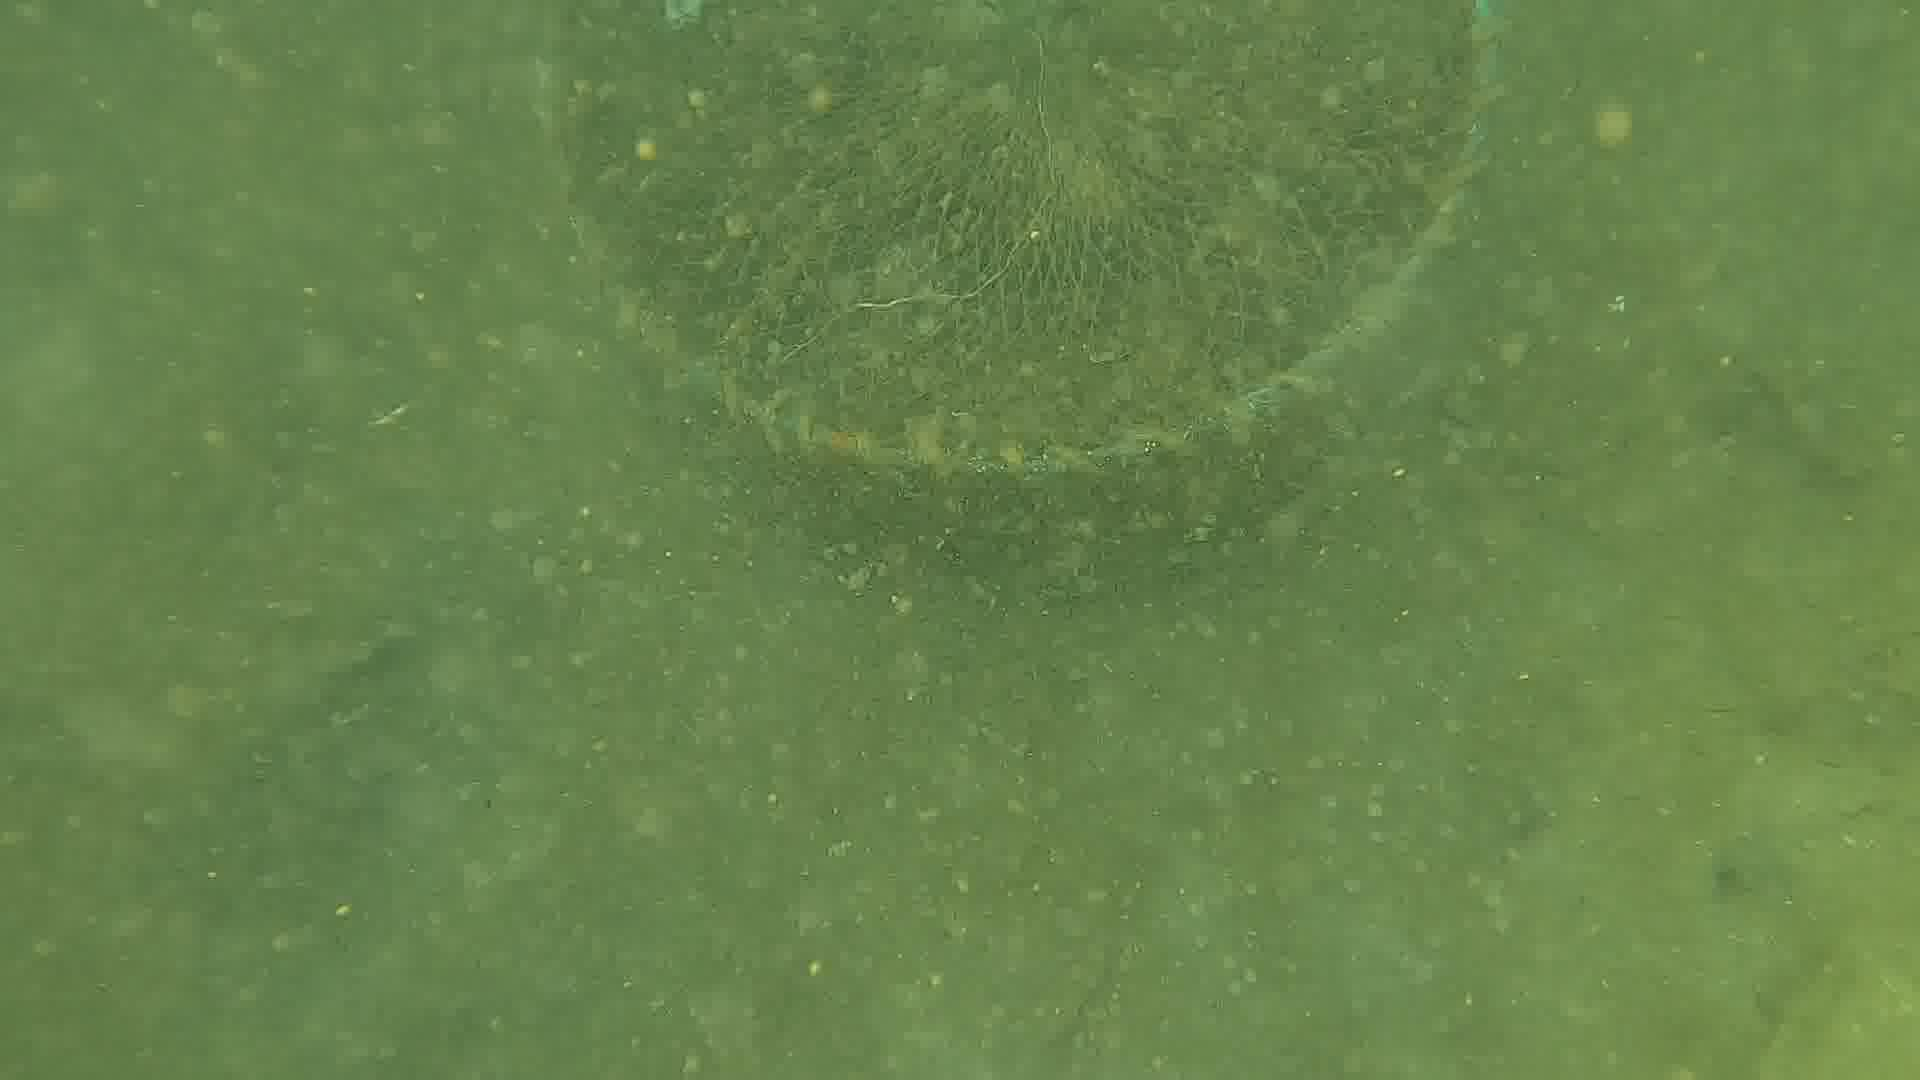circular fish trap: (525, 1, 1493, 564)
